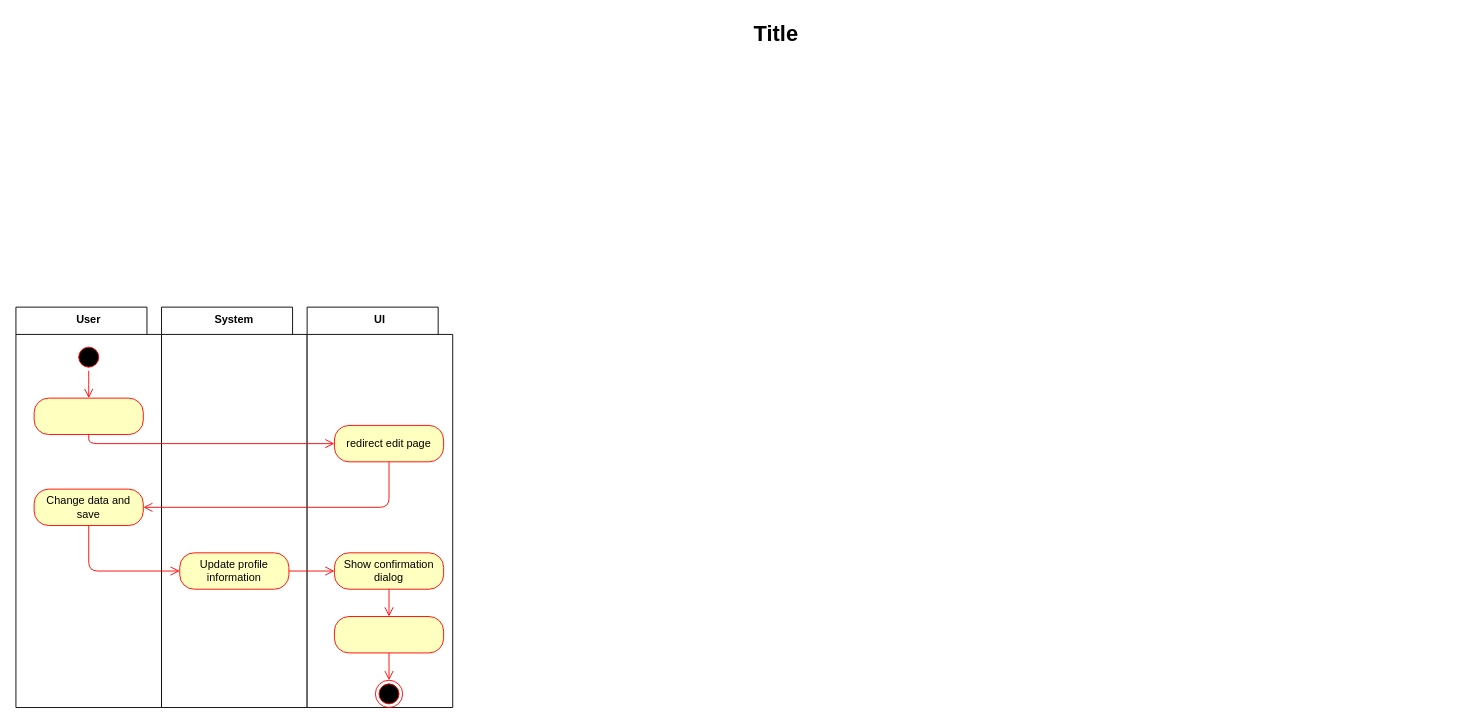
The diagram is 1479 pixels wide and 723 high, and some of its shapes have lost their labels. Here are the shapes that lost their labels. From the top down, the centre of each, then its label:
point (88, 416): click on "edit" button
point (389, 634): redirect user profile page
